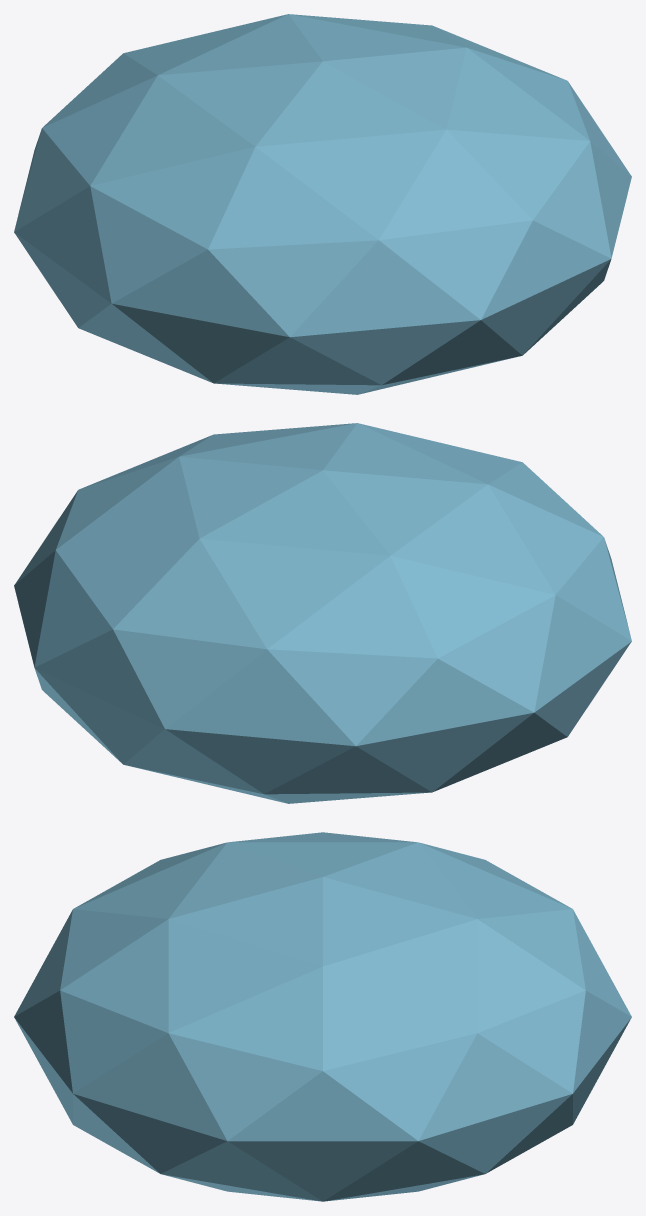
Rendered from pet-bowl-cozy.glb.
3 renders of one model, top to bottom at view 1: azimuth 30°, elevation 25°; view 2: azimuth 150°, elevation 25°; view 3: azimuth 270°, elevation 25°, orthographic. The views are drawn at different scales.
Parts seen in each view (by area): view 1: PetBowl; view 2: PetBowl; view 3: PetBowl.
Boxes of the visible parts, x1,y1,x2,y2 form: PetBowl: [14, 14, 631, 394]; PetBowl: [14, 423, 631, 803]; PetBowl: [14, 832, 631, 1201].
Bounding box in the file's own units: 0.3804 × 0.2 × 0.4.
